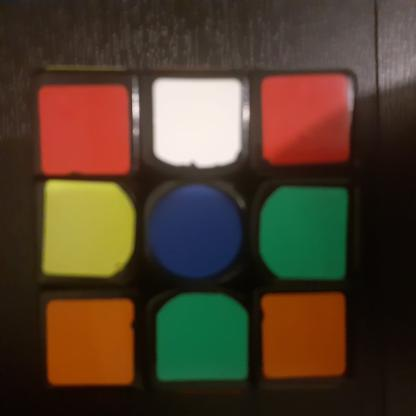cube: (26, 59, 369, 392)
